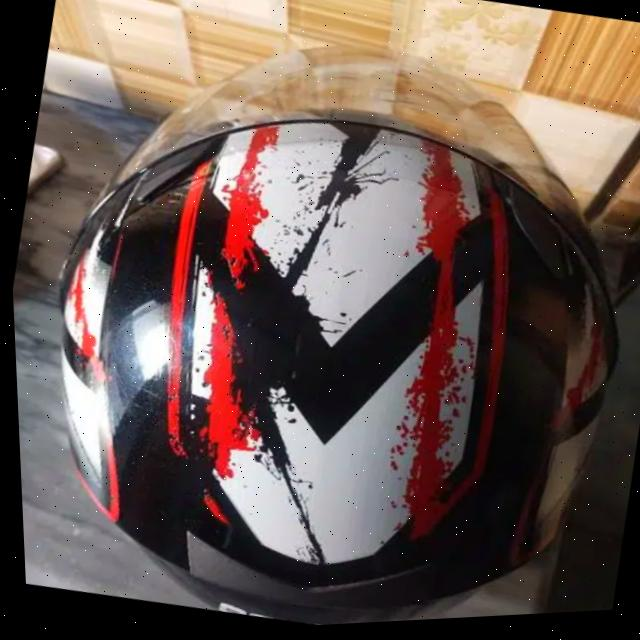Helmet: (2, 34, 640, 640)
